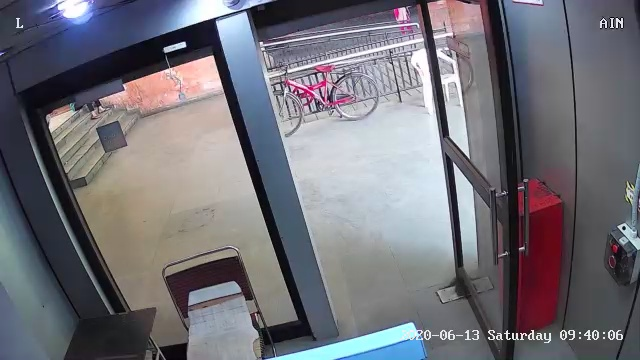open: (209, 4, 552, 348)
